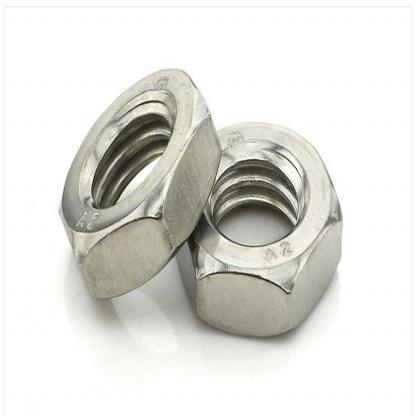FOD: (53, 62, 222, 301), (173, 116, 343, 340)
